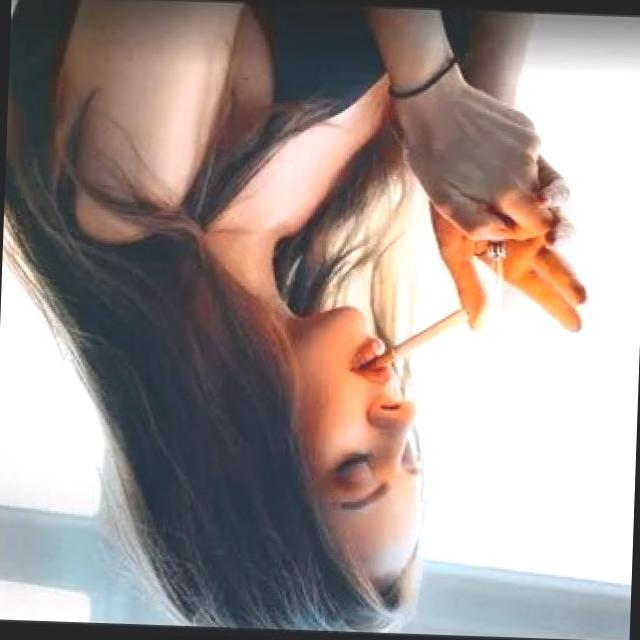cigarette: (361, 298, 473, 380)
